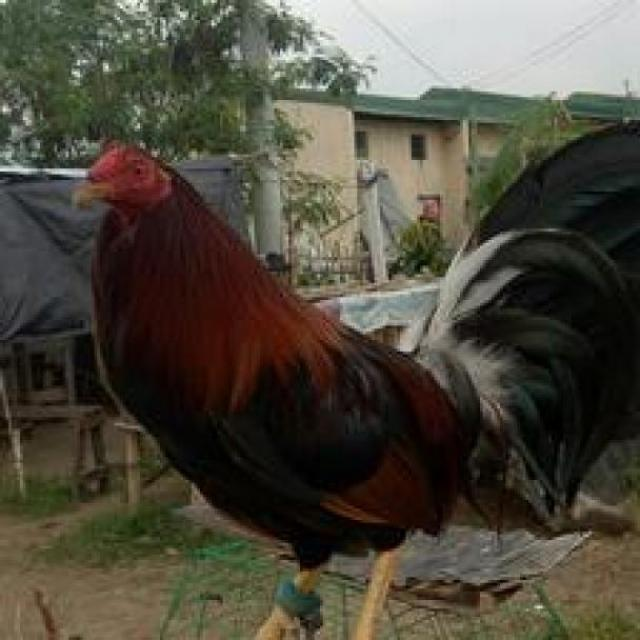Chicken: (76, 135, 608, 639)
